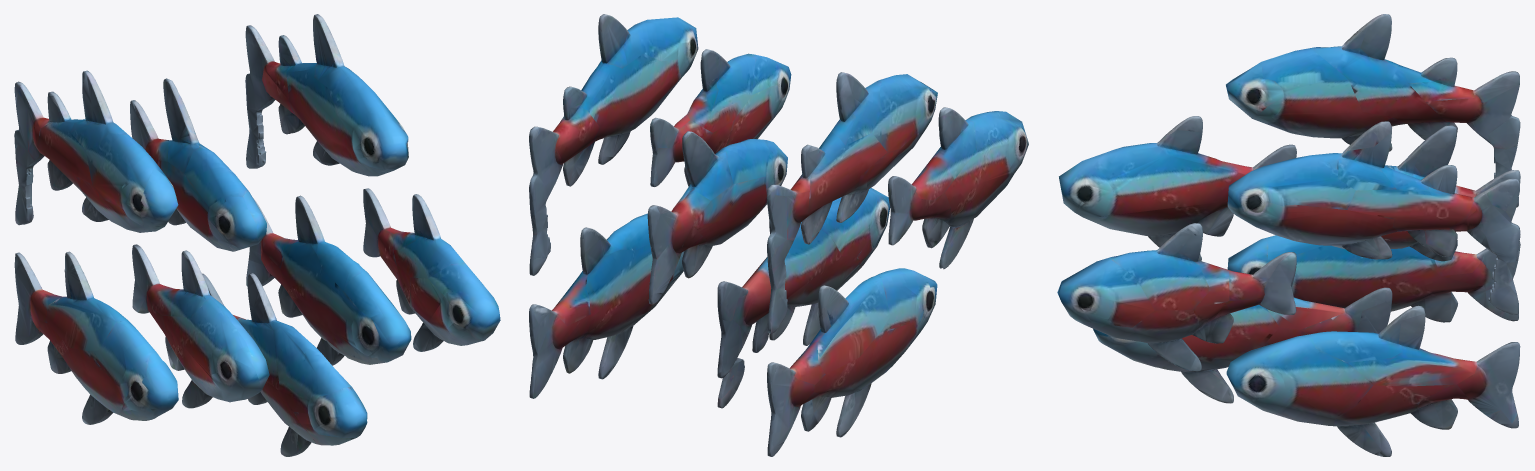
File: tetrafish_pbr.glb
3 renders of one model, left to right at view 1: azimuth 30°, elevation 25°; view 2: azimuth 150°, elevation 25°; view 3: azimuth 270°, elevation 25°, orthographic. The views are drawn at different scales.
Visible parts, largest first — view 1: model.018; view 2: model.018; view 3: model.018.
Part boxes in pixels (x1=…): model.018: x1=14, y1=14, x2=500, y2=456; model.018: x1=529, y1=14, x2=1028, y2=456; model.018: x1=1057, y1=14, x2=1520, y2=456.
Bounding box in the file's own units: 0.9381 × 1.17 × 1.46.
1 material, 1 textured.
